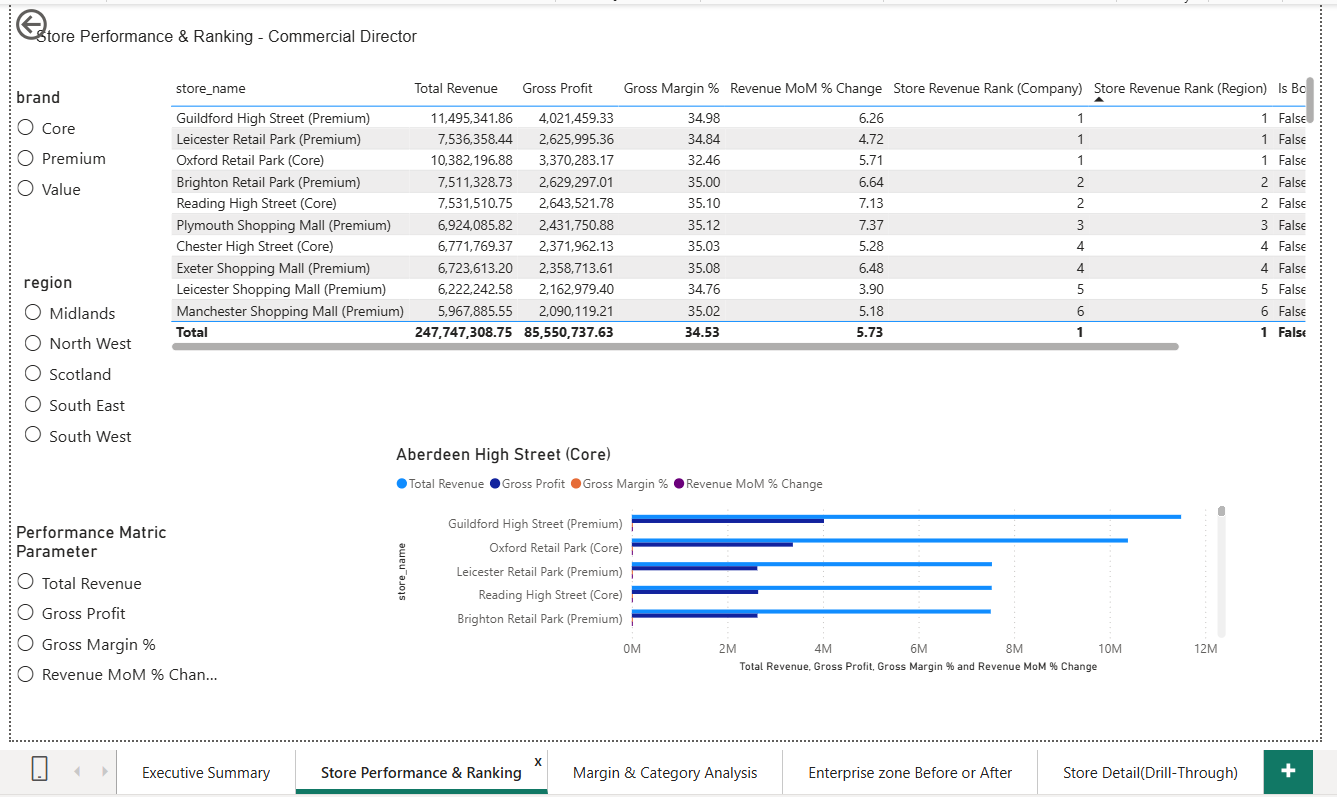

This screenshot's page, from the dashboard's own definition file:
{"tool":"powerbi","page":{"name":"Store Performance & Ranking","canvas":[1280,720],"ordinal":1},"visuals":[{"type":"textbox","box":[20,18.6,410,62.9],"z":0},{"type":"tableEx","fields":{"Values":["Stores.store_name","Table.Total Revenue","Table.Gross Profit","Table.Gross Margin %","Table.Revenue MoM % Change","Table.Store Revenue Rank (Company)","Table.Store Revenue Rank (Region)","Table.Is Bottom Quartile (Region)"]},"box":[150.4,66,1129.9,278.8],"z":1000},{"type":"listSlicer","fields":{"Values":["Performance Matric Parameter.Performance Matric Parameter"]},"box":[0,506.3,210.3,214],"z":2000},{"type":"listSlicer","fields":{"Values":["Stores.region"]},"box":[7.3,261.7,143.1,196.9],"z":3000},{"type":"listSlicer","fields":{"Values":["Stores.brand"]},"box":[0,80.7,113.7,150.4],"z":4000},{"type":"actionButton","box":[0,0,100,40],"z":5000},{"type":"clusteredBarChart","fields":{"Y":["Table.Total Revenue","Table.Gross Profit","Table.Gross Margin %","Table.Revenue MoM % Change"],"Category":["Stores.store_name"]},"box":[371.7,430.4,821.7,228.7],"z":6000}]}

Visuals, with their boxes on the page's 1280x720 design canvas (x1, y1, x2, y2). These are canvas units, not pixel positions in the 1337x797 screenshot, which may show the page scaled, cropped or inside an application window:
textbox: 20, 19, 430, 82
tableEx - Stores.store_name x Table.Total Revenue: 150, 66, 1280, 345
listSlicer - Performance Matric Parameter.Performance Matric Parameter: 0, 506, 210, 720
listSlicer - Stores.region: 7, 262, 150, 459
listSlicer - Stores.brand: 0, 81, 114, 231
actionButton: 0, 0, 100, 40
clusteredBarChart - Table.Total Revenue x Table.Gross Profit: 372, 430, 1193, 659
